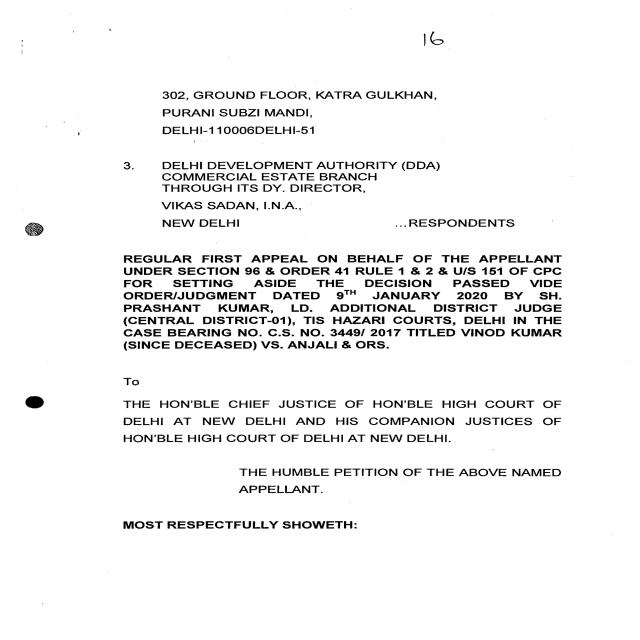page-number: (338, 2, 634, 88)
